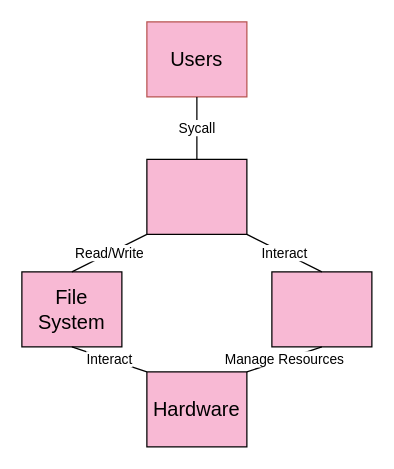
Some shapes in this 394 by 469 pixel diagram are drawn without their labels. Here are the shapes that lost their labels. From the top down, the box of each, then its label:
(146, 158, 247, 234): Sysfs
(271, 271, 372, 347): Kernel
